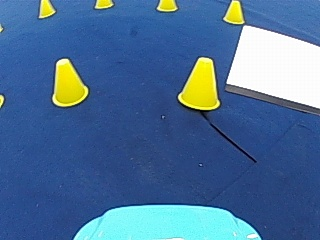cone: (178, 55, 220, 110), (50, 57, 88, 106), (223, 0, 244, 24), (38, 0, 54, 17), (156, 0, 176, 11), (95, 0, 112, 9)
